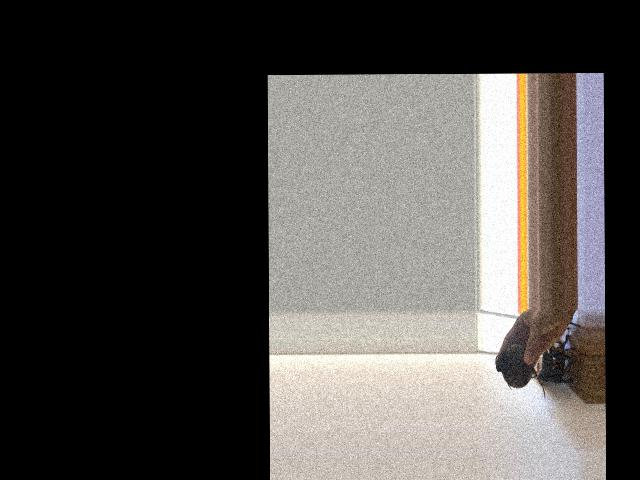beet: (495, 344, 545, 400)
